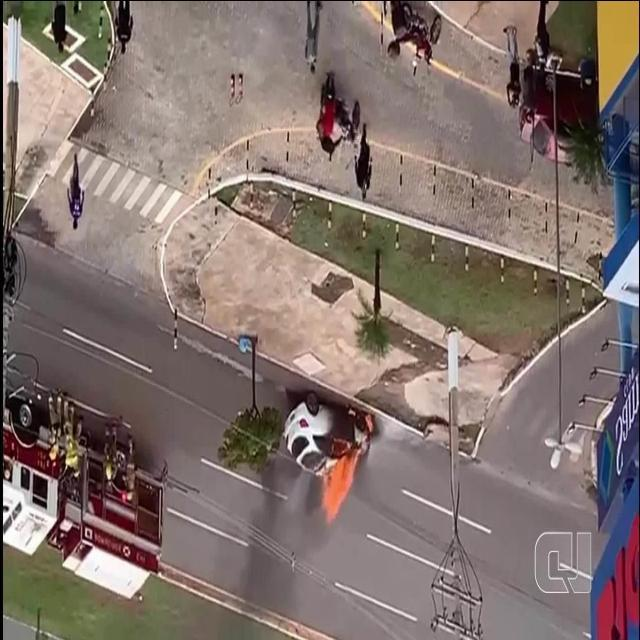Fire: (317, 450, 359, 522), (363, 412, 373, 432)
